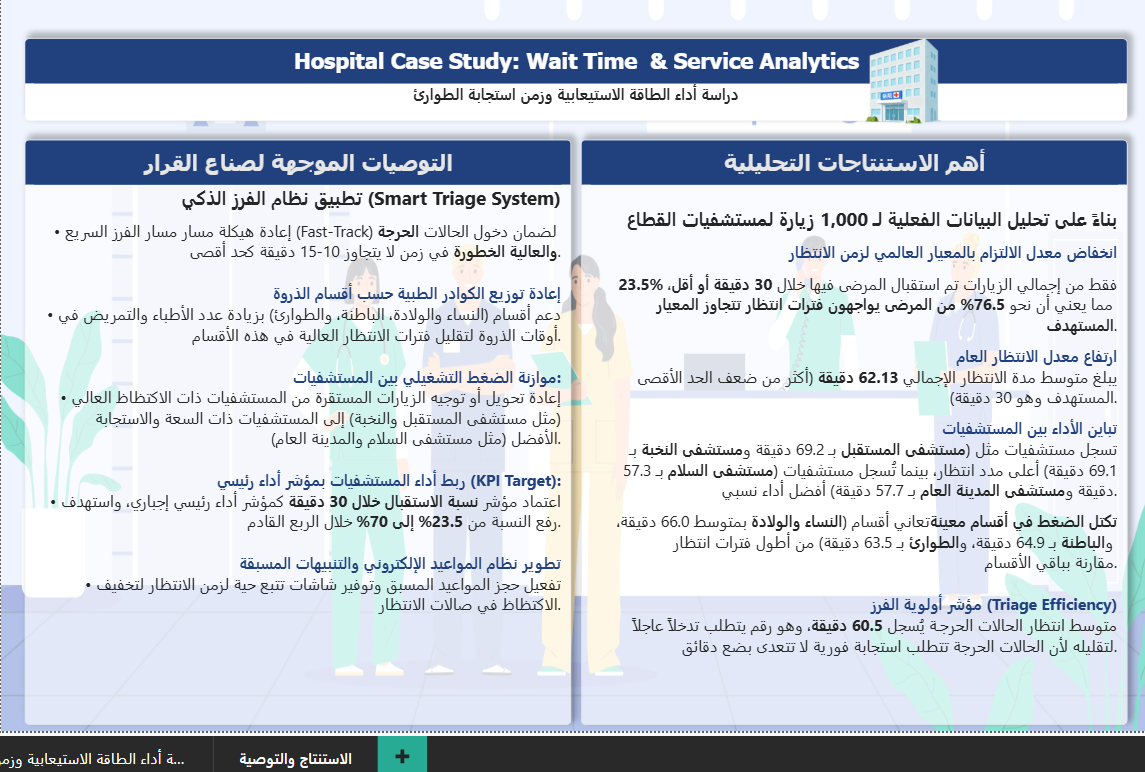

This screenshot's page, from the dashboard's own definition file:
{"tool":"powerbi","page":{"name":"الاستنتاج والتوصية ","canvas":[1960,1260],"ordinal":1},"visuals":[{"type":"textbox","title":"Hospital Case Study: Wait Time  & Service Analytics","box":[40.7,72.8,1888.7,141.3],"z":0},{"type":"textbox","title":"أهم الاستنتاجات التحليلية","box":[992.8,246.7,935.8,1002.2],"z":1000},{"type":"textbox","title":"التوصيات الموجهة لصناع القرار","box":[39.8,246.7,935.8,1002.2],"z":1001},{"type":"image","box":[1398.4,15,278.4,259.1],"z":1002}]}

Visuals, with their boxes on the page's 1960x1260 design canvas (x1, y1, x2, y2). These are canvas units, not pixel positions in the 1145x772 screenshot, which may show the page scaled, cropped or inside an application window:
"Hospital Case Study: Wait Time  & Service Analytics" textbox: l=41, t=73, r=1929, b=214
"أهم الاستنتاجات التحليلية" textbox: l=993, t=247, r=1929, b=1249
"التوصيات الموجهة لصناع القرار" textbox: l=40, t=247, r=976, b=1249
image: l=1398, t=15, r=1677, b=274
